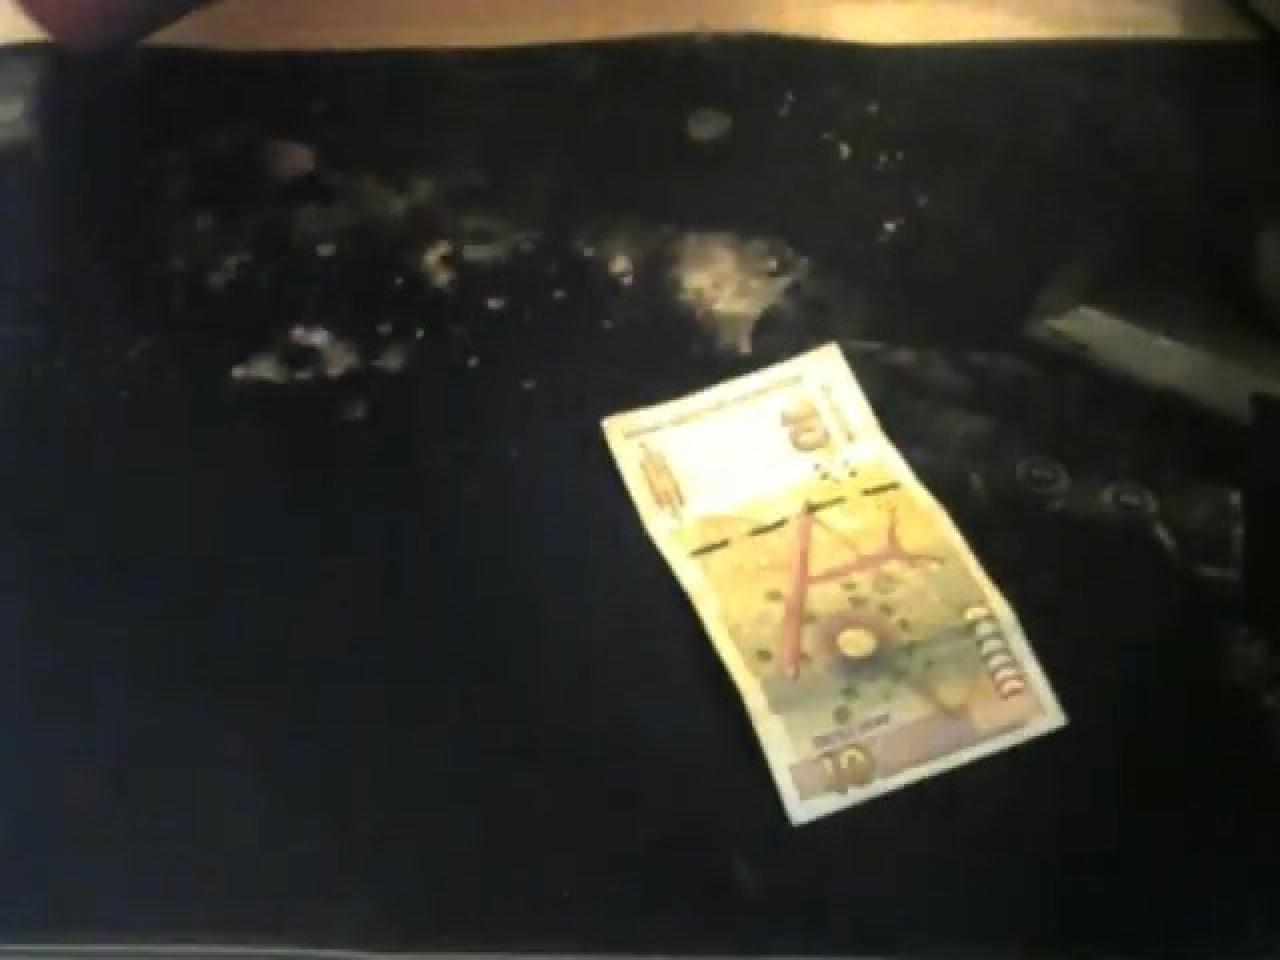10leva: (600, 336, 1072, 829)
